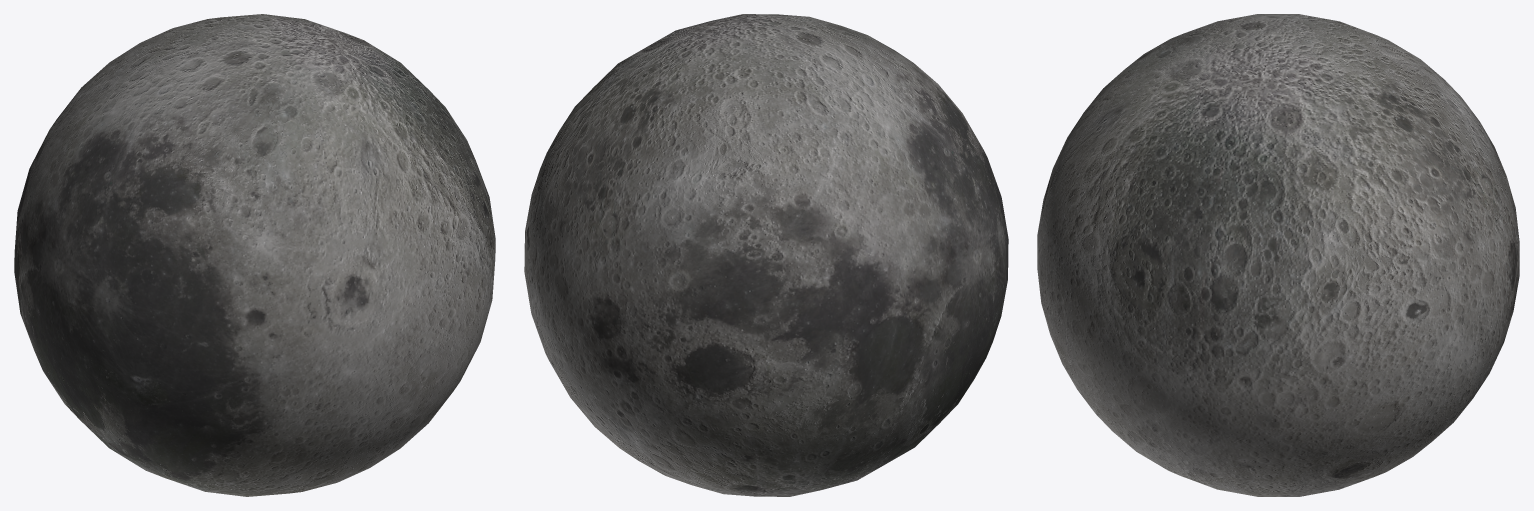
File: moon.glb
3 views of the same model, side by side, from view 1: azimuth 30°, elevation 25°; view 2: azimuth 150°, elevation 25°; view 3: azimuth 270°, elevation 25° (orthographic).
Parts seen in each view (by area): view 1: Moon; view 2: Moon; view 3: Moon.
Part boxes in pixels (x1=…): Moon: x1=14, y1=14, x2=495, y2=496; Moon: x1=524, y1=14, x2=1008, y2=496; Moon: x1=1037, y1=14, x2=1519, y2=496.
Size of the model in its own units: 0.00123 by 0.00123 by 0.00122.
1 material, 1 textured.
